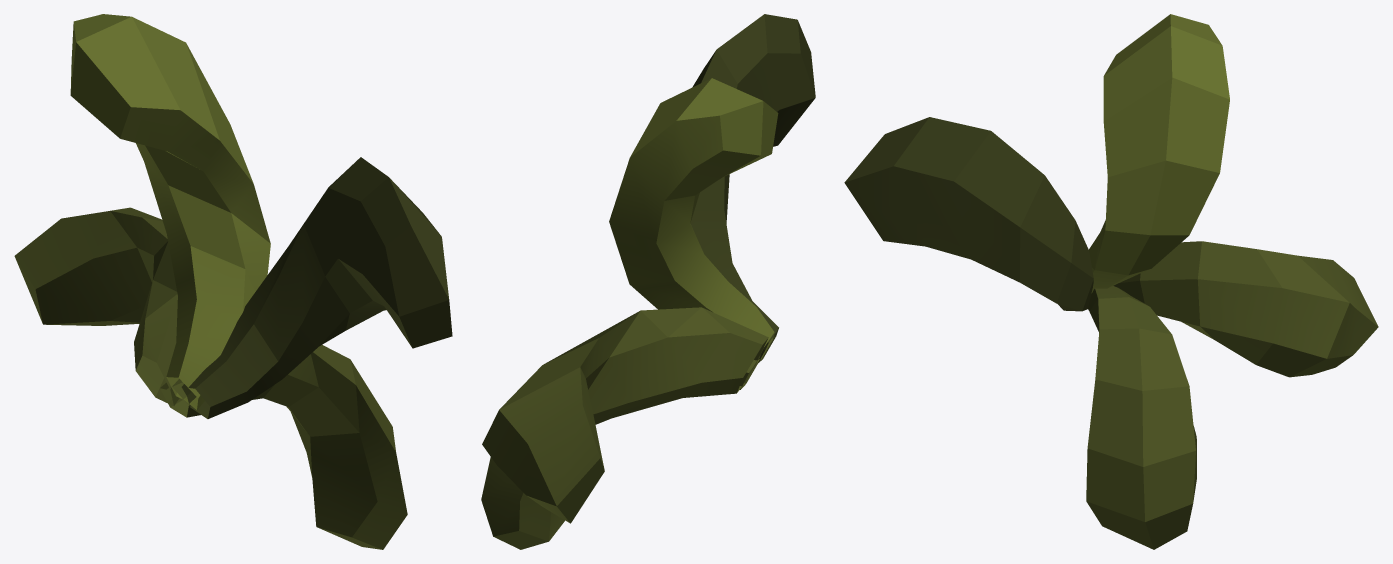
File: ea_swamp_leaf_01b_pre__2__lev1.glb
3 views of the same model, side by side, from view 1: azimuth 30°, elevation 25°; view 2: azimuth 150°, elevation 25°; view 3: azimuth 270°, elevation 25° (orthographic). The views are drawn at different scales.
Visible parts, largest first — view 1: ea_swamp_leaf_01b_pre__2__lev1; view 2: ea_swamp_leaf_01b_pre__2__lev1; view 3: ea_swamp_leaf_01b_pre__2__lev1.
Part boxes in pixels (bbox=[...]): ea_swamp_leaf_01b_pre__2__lev1: bbox=[14, 14, 452, 549]; ea_swamp_leaf_01b_pre__2__lev1: bbox=[481, 14, 815, 549]; ea_swamp_leaf_01b_pre__2__lev1: bbox=[844, 14, 1378, 549].
Size of the model in its own units: 0.9739 by 1.76 by 1.93.
Materials: 1 (1 with a texture image).
